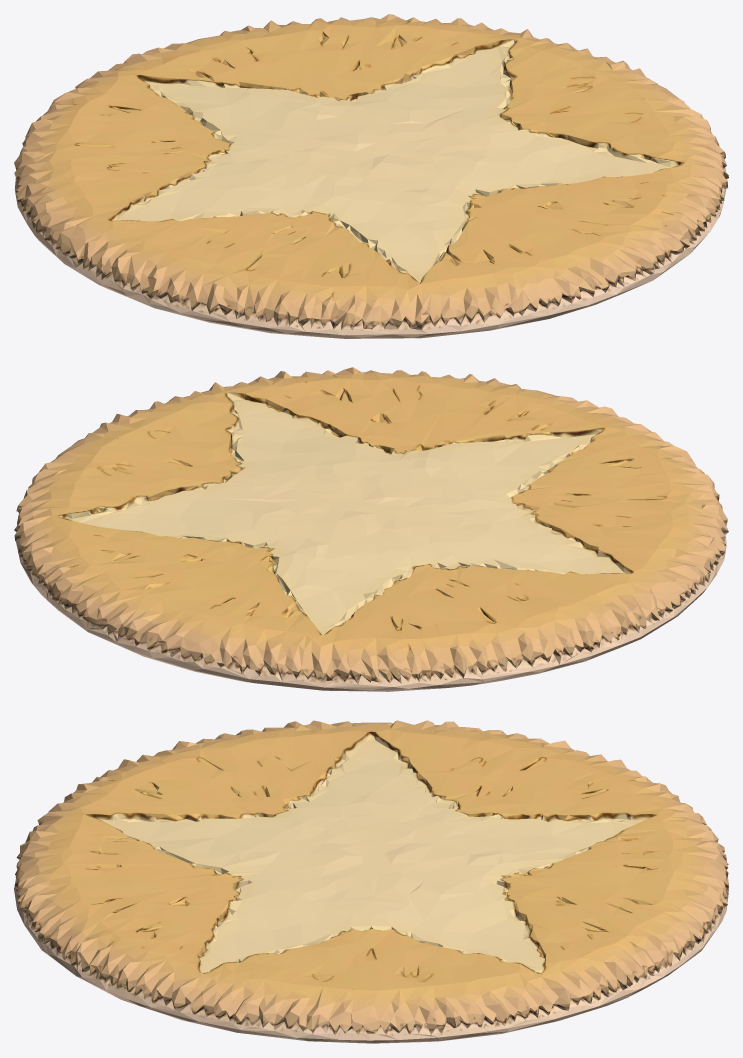
File: star+pie+3d+model.fbx
3 views of the same model, one above another, from view 1: azimuth 30°, elevation 25°; view 2: azimuth 150°, elevation 25°; view 3: azimuth 270°, elevation 25° (orthographic).
Parts seen in each view (by area): view 1: tripo_node_c7a9f079; view 2: tripo_node_c7a9f079; view 3: tripo_node_c7a9f079.
Boxes of the visible parts, bbox=[...] form: tripo_node_c7a9f079: bbox=[14, 14, 728, 338]; tripo_node_c7a9f079: bbox=[14, 367, 728, 691]; tripo_node_c7a9f079: bbox=[14, 720, 728, 1043].
Bounding box in the file's own units: 1 × 0.0684 × 0.9988.
1 material, 1 textured.
